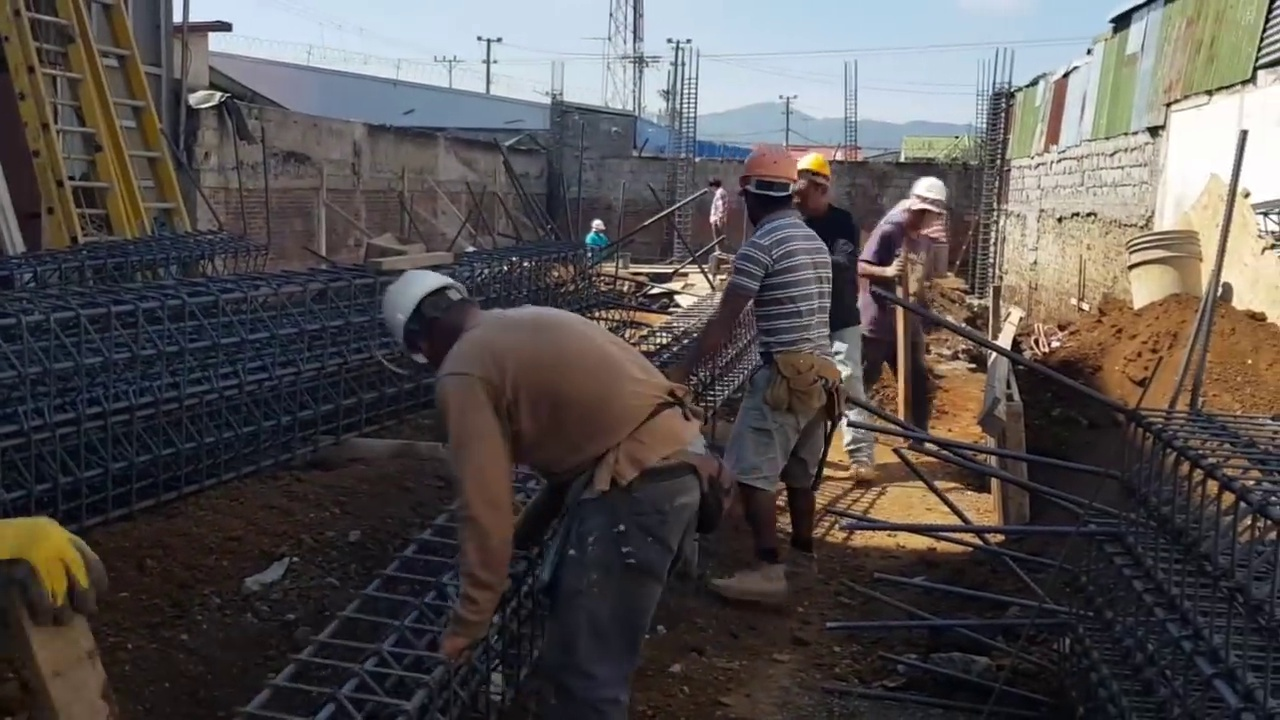helmet: (380, 267, 463, 359), (740, 147, 797, 200), (901, 179, 949, 217), (794, 151, 832, 190), (592, 220, 606, 230)
helmet-off: (704, 176, 723, 195)
helmet-on: (378, 264, 484, 378), (740, 146, 799, 233), (792, 150, 837, 218), (900, 175, 949, 228), (590, 220, 606, 238)
person: (378, 268, 721, 719), (679, 146, 832, 561), (863, 175, 962, 449), (793, 150, 875, 470), (705, 176, 729, 256), (584, 220, 610, 257)
